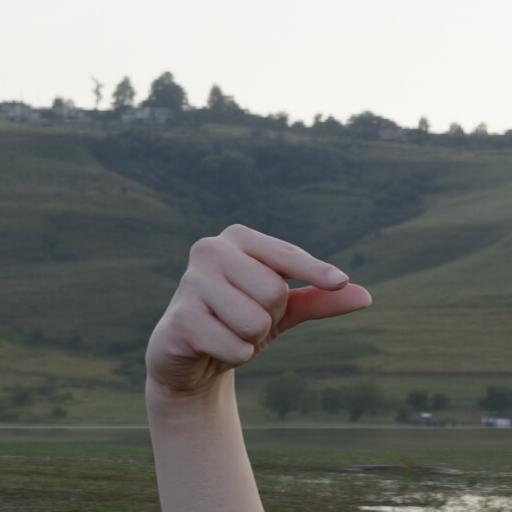G: (126, 204, 394, 490)
